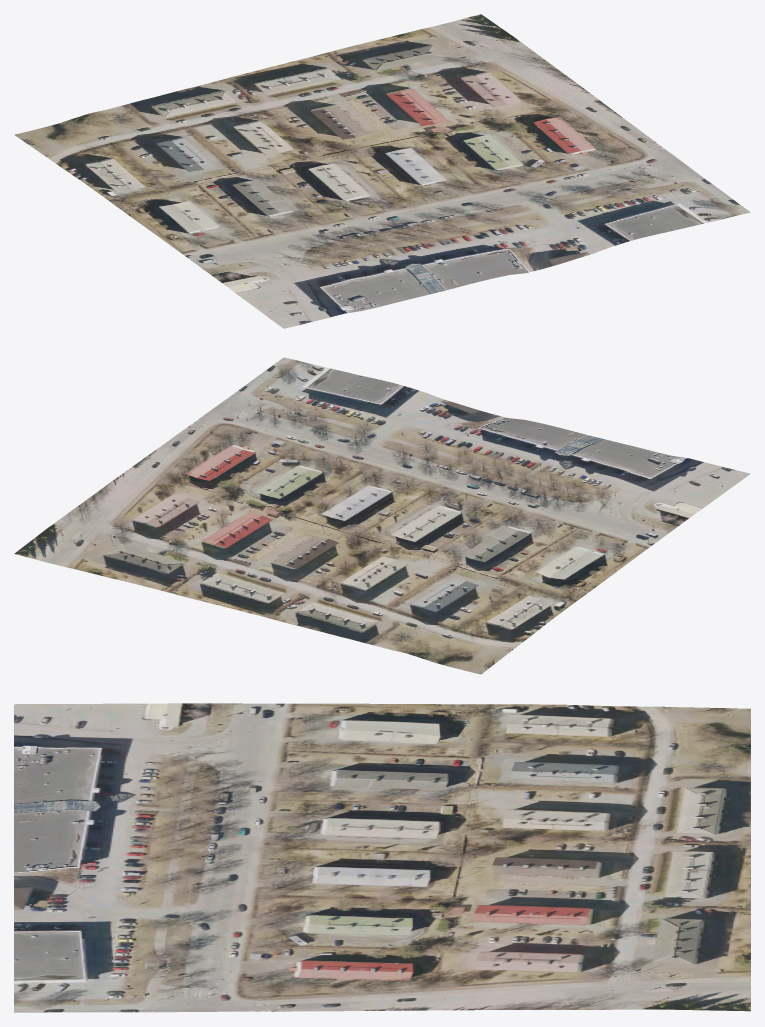
The model's file is CM_Terrain_24488206_6819180.fbx.
3 renders of one model, top to bottom at view 1: azimuth 30°, elevation 25°; view 2: azimuth 150°, elevation 25°; view 3: azimuth 270°, elevation 25°, orthographic. The views are drawn at different scales.
Parts seen in each view (by area): view 1: CM_Terrain_24488206_6819180_LOD0; view 2: CM_Terrain_24488206_6819180_LOD0; view 3: CM_Terrain_24488206_6819180_LOD0.
Part boxes in pixels (x1,y1,x2,y2): CM_Terrain_24488206_6819180_LOD0: (14,14,750,328); CM_Terrain_24488206_6819180_LOD0: (14,357,750,674); CM_Terrain_24488206_6819180_LOD0: (14,703,750,1012).
Size of what is drawn, in the model's own units: 205 by 3.53 by 205.
